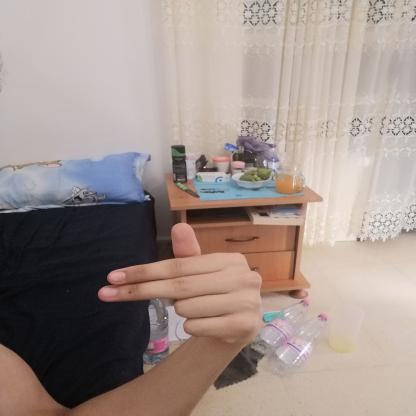GHAYN: (88, 215, 274, 359)
